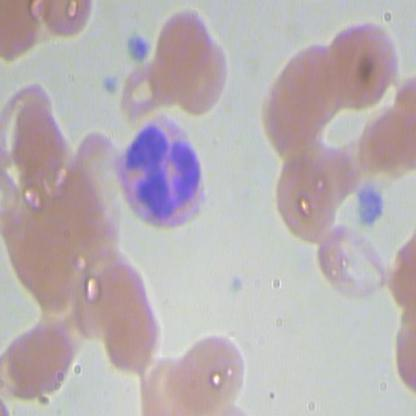Platelets: (354, 185, 390, 231), (125, 31, 153, 68), (97, 68, 124, 101)
RBC: (317, 17, 403, 119), (317, 219, 389, 315), (272, 148, 341, 244), (178, 331, 250, 415), (155, 5, 215, 89)
WBC: (109, 106, 220, 249)
